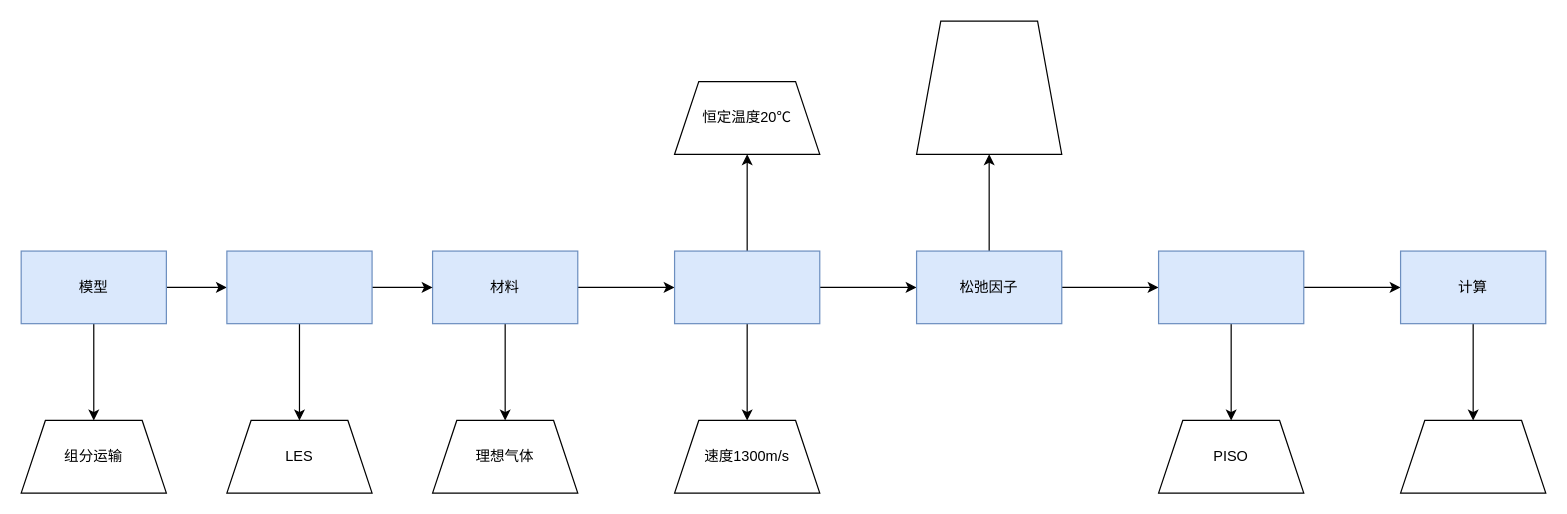
Image size: 1567x514. Some labels were removed from this diagram. The centre of each missing label's shape, as x and y in pixels:
"压力0.3 密度0.2 体积力1 动量0.2 n20.2 能量0.2" belongs at [988,87].
"方法" belongs at [1230,287].
"时间步长1.5e-5" belongs at [1472,456].
"湍流模型" belongs at [299,287].
"边界条件" belongs at [746,287].
